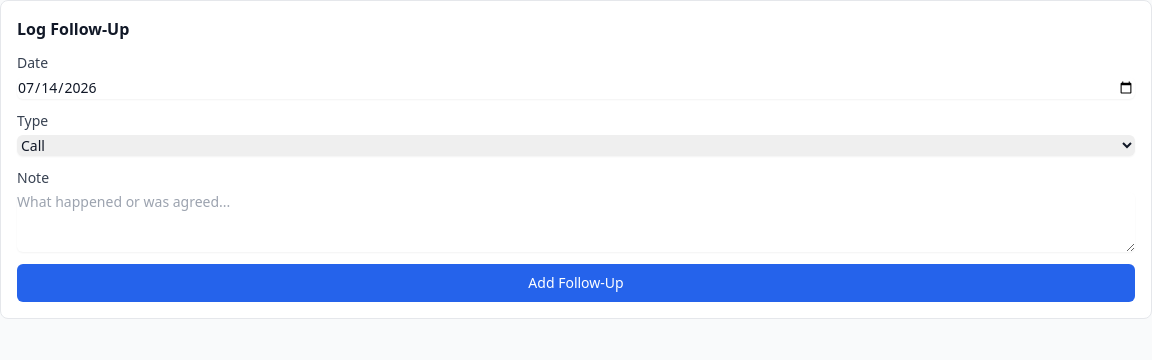
Test case: FollowUpForm › Validation › clears error when user starts typing
// Submit empty form to trigger error
Click the button "Add Follow-Up" at (576, 283), box left=17, top=264, right=1135, bottom=302
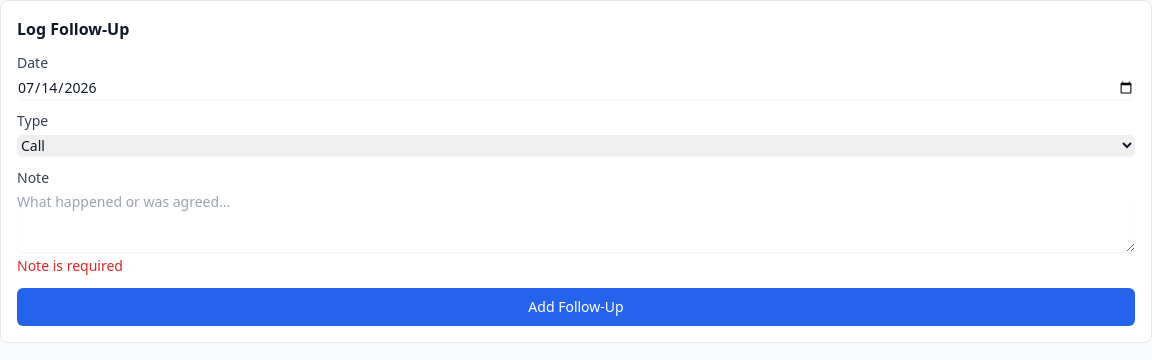
Result: the text "Note is required" is shown at left=17, top=256, right=123, bottom=275
// Type in note field
Type "A" into the text box labelled "Note" at (576, 222), box left=17, top=192, right=1135, bottom=252
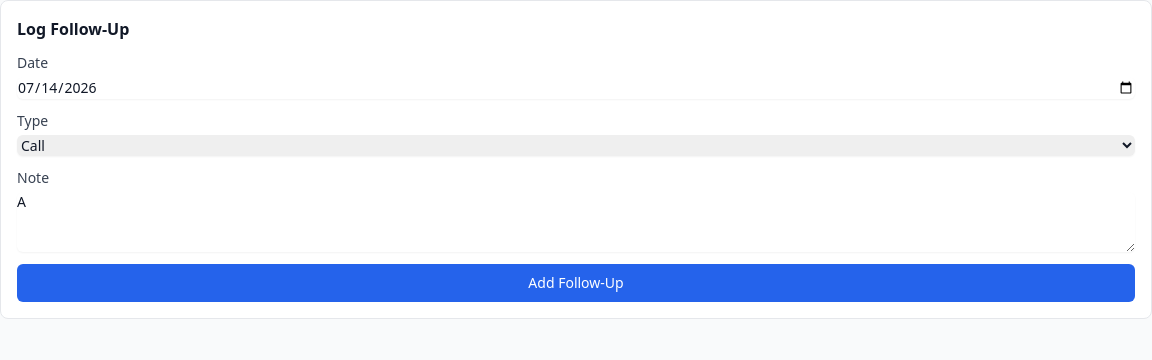
Result: the text "Note is required" is gone
